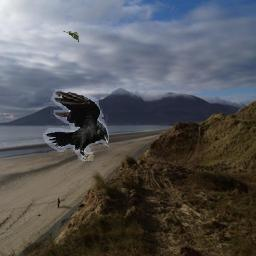Crow: (43, 89, 109, 161)
Cuckoo: (63, 30, 80, 42)
